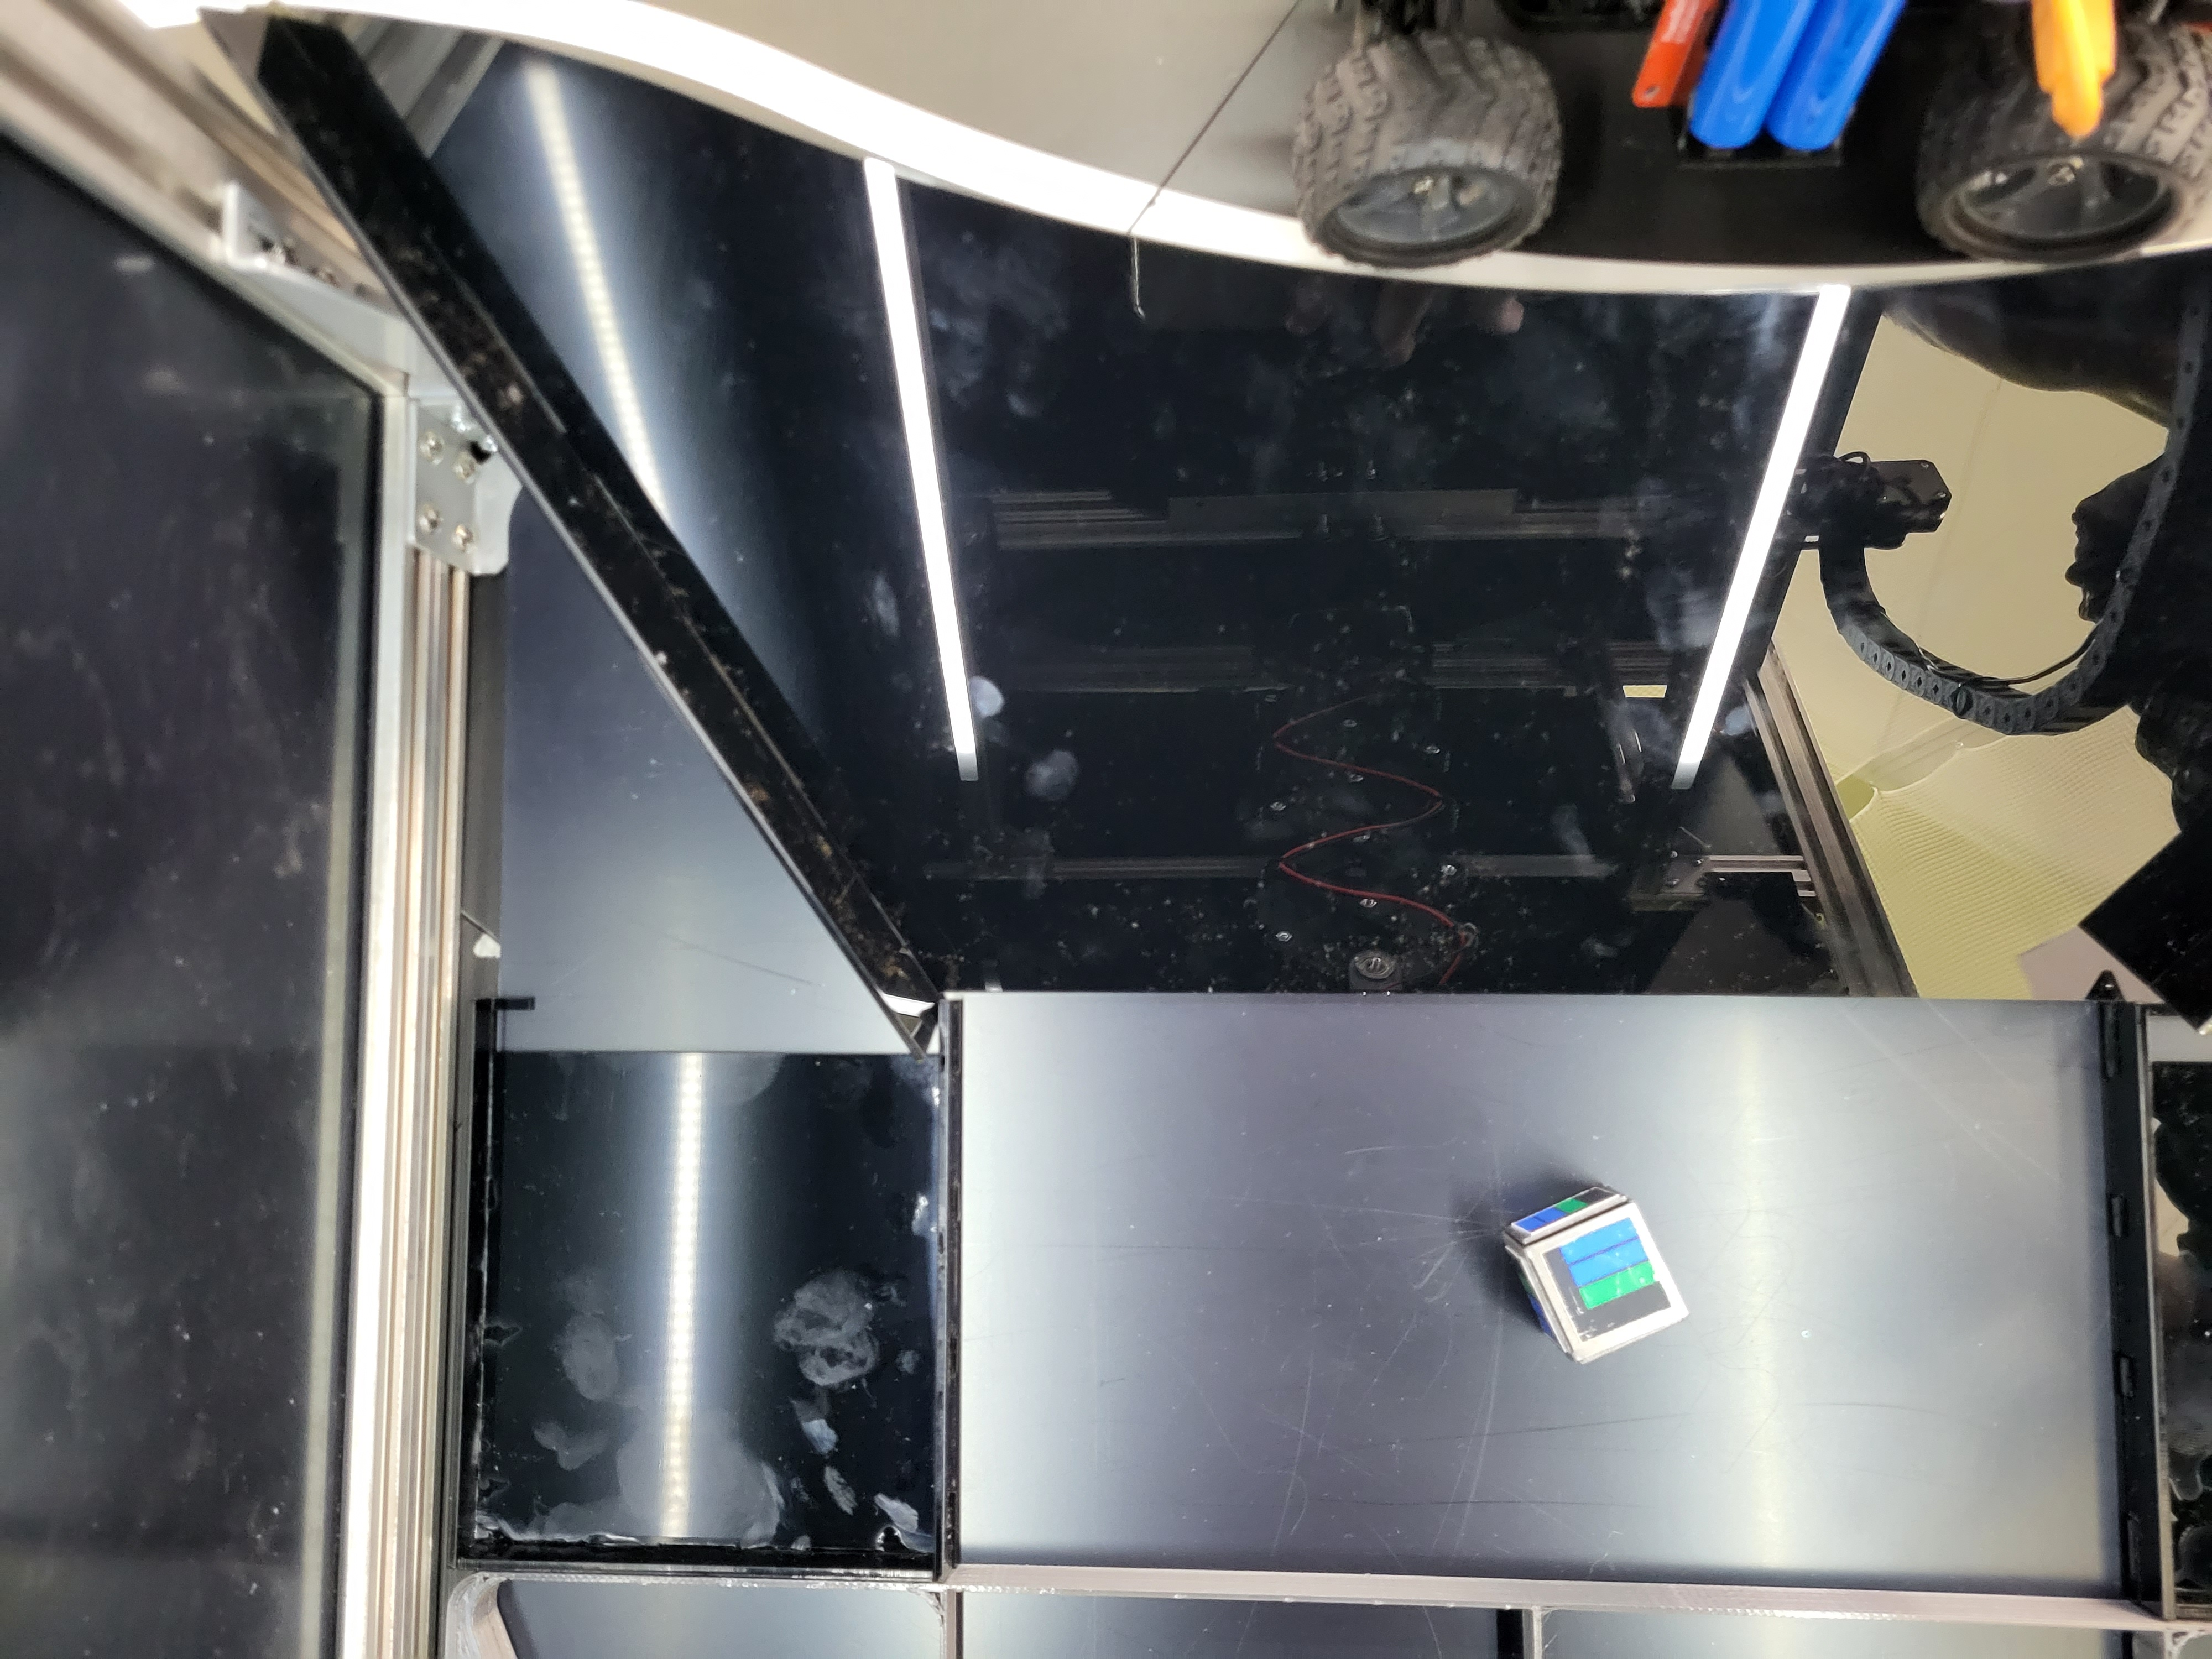Cube: (1503, 1169, 1695, 1373)
